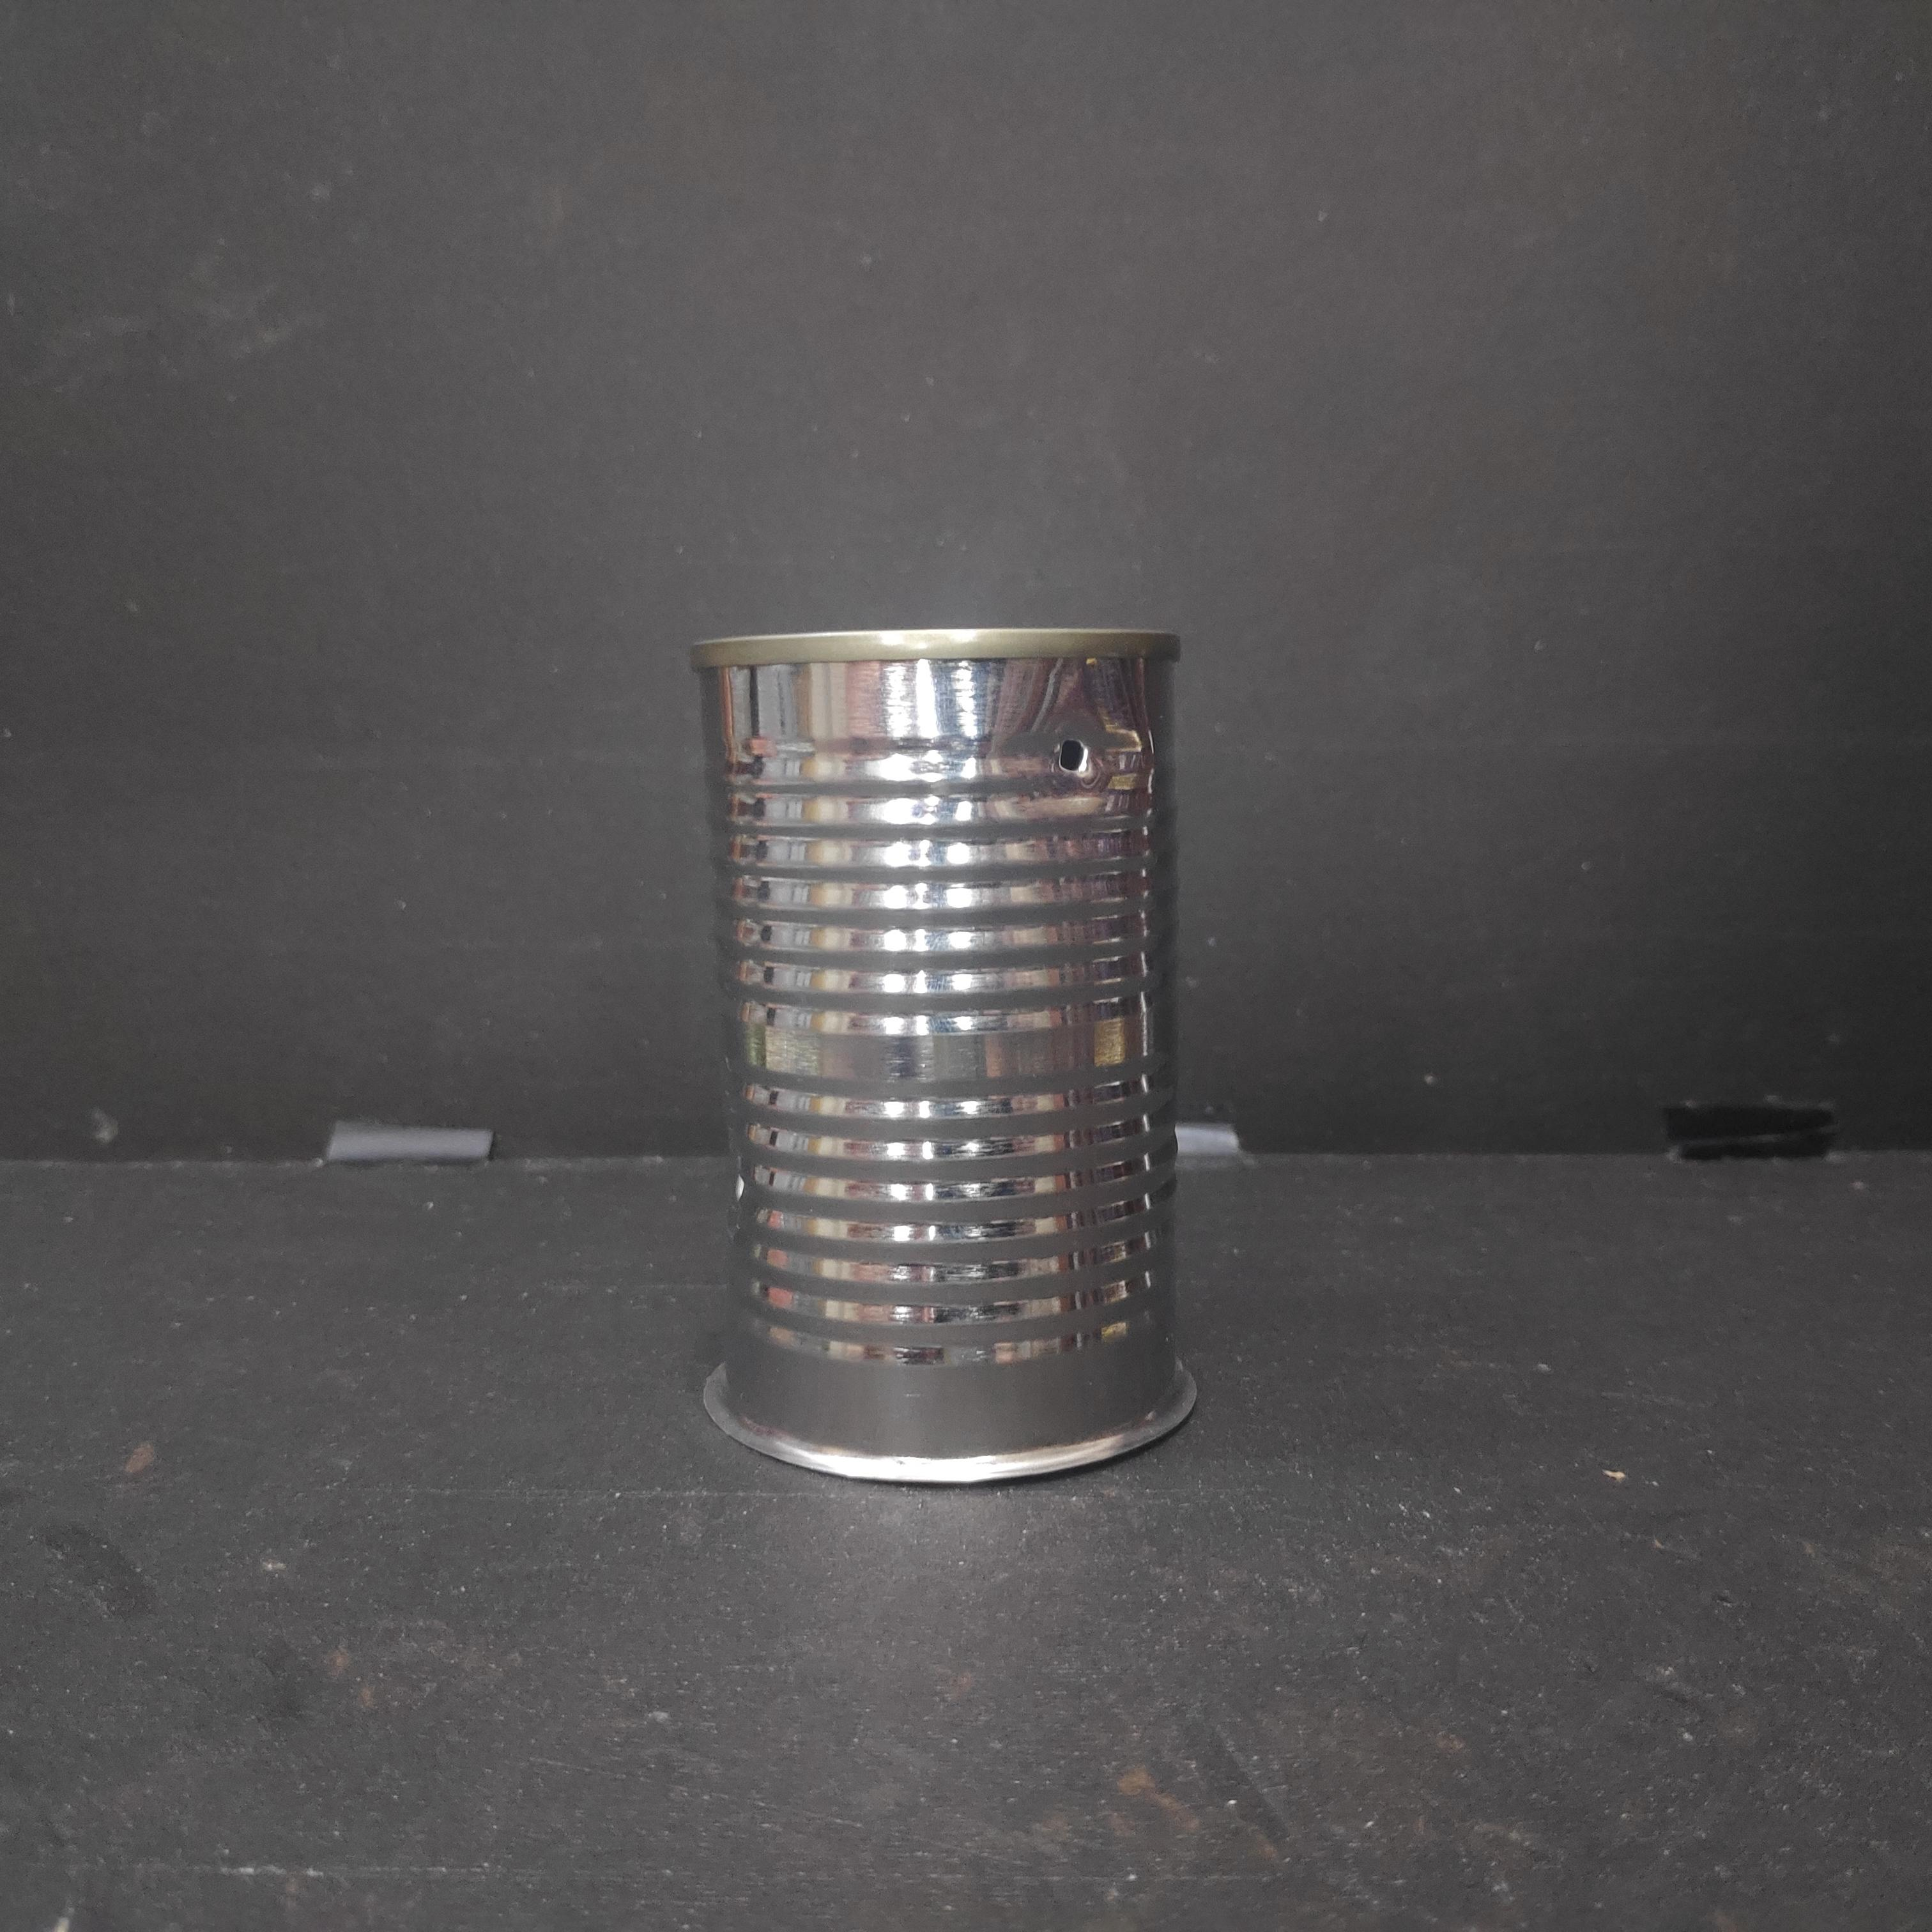Critical Defect: (688, 621, 1194, 1500)
